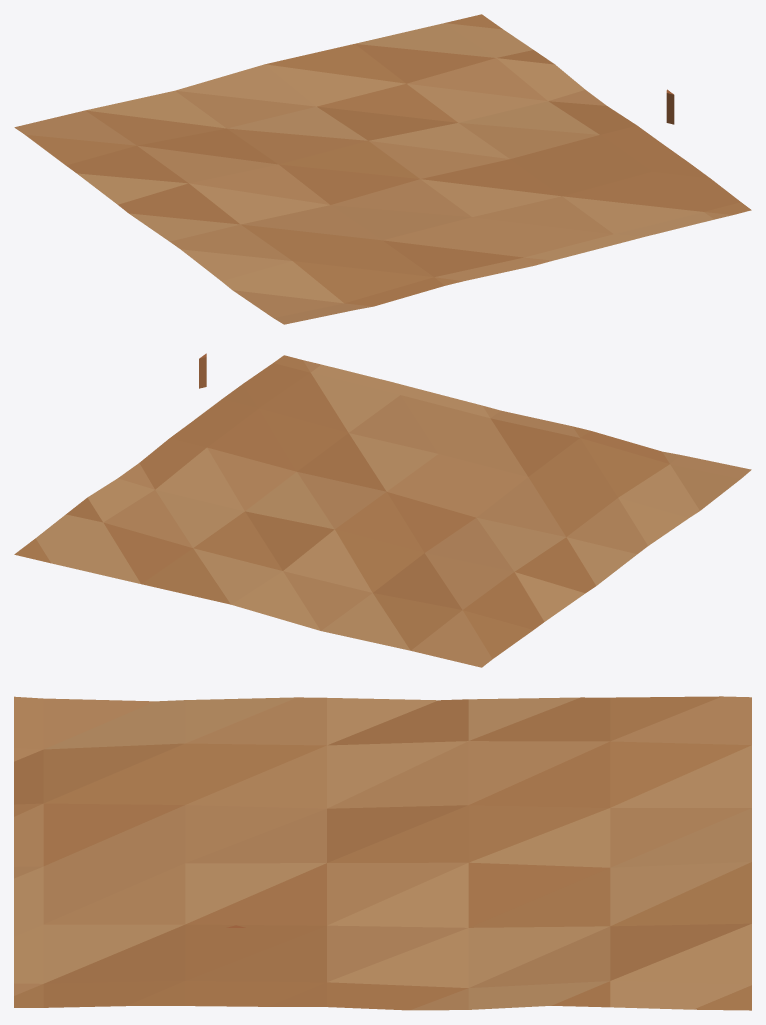
The picture shows the model from 3 angles, top to bottom: view 1: azimuth 30°, elevation 25°; view 2: azimuth 150°, elevation 25°; view 3: azimuth 270°, elevation 25°; orthographic projection. The views are drawn at different scales.
Visible parts, largest first — view 1: baked; view 2: baked; view 3: baked.
Part boxes in pixels (x1,y1,x2,y2): baked: (14,14,751,324); baked: (14,353,751,667); baked: (14,696,751,1010).
Bounding box in the file's own units: 62.5 × 8.04 × 62.5.
